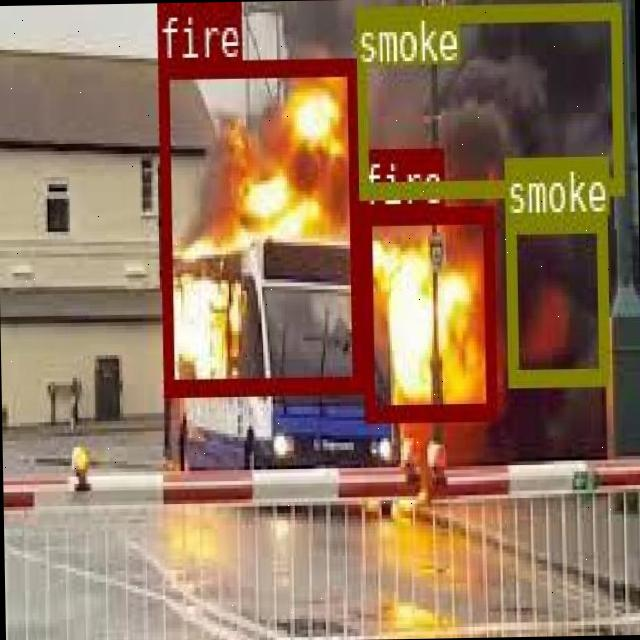fire: (156, 58, 362, 394), (358, 202, 495, 418)
smoke: (353, 0, 620, 196), (503, 214, 606, 383)
